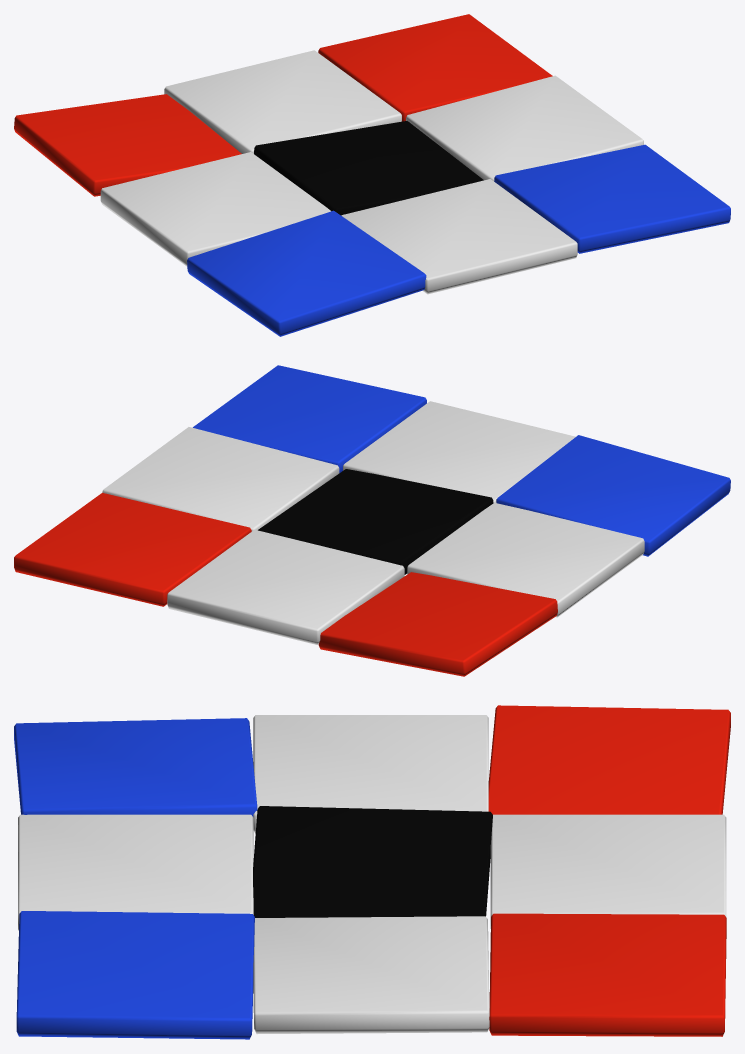
The model's file is sol.fbx.
3 views of the same model, one above another, from view 1: azimuth 30°, elevation 25°; view 2: azimuth 150°, elevation 25°; view 3: azimuth 270°, elevation 25° (orthographic). The views are drawn at different scales.
Visible parts, largest first — view 1: Cube.006; view 2: Cube.006; view 3: Cube.006.
Part boxes in pixels (<box>): Cube.006: <box>14,14,730,336</box>; Cube.006: <box>14,365,730,676</box>; Cube.006: <box>14,705,730,1039</box>.
Bounding box in the file's own units: 609 × 35.43 × 609.
